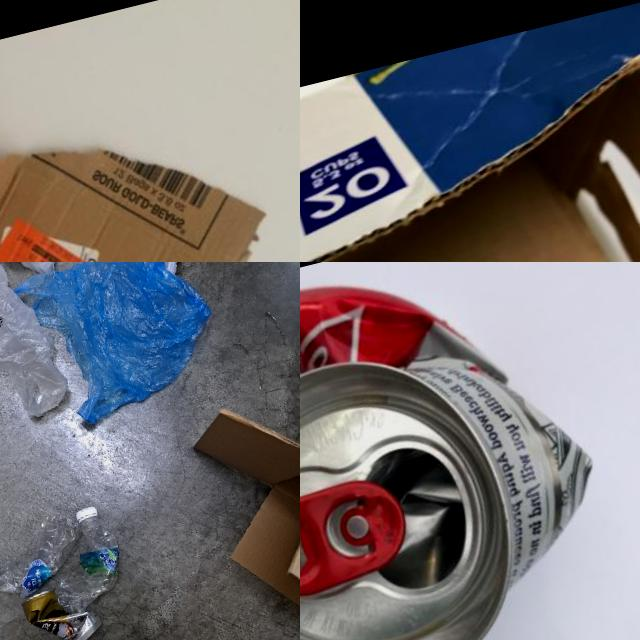aba de lata: (300, 468, 417, 606)
garrafa plástica: (41, 513, 131, 615), (0, 508, 92, 605)
lata: (300, 262, 635, 640), (19, 579, 106, 640)
papelão: (300, 0, 640, 262), (0, 70, 300, 262), (178, 359, 300, 640)
sacola plástica: (8, 262, 230, 435), (0, 262, 75, 446)
tampa plástica: (75, 504, 98, 520)
